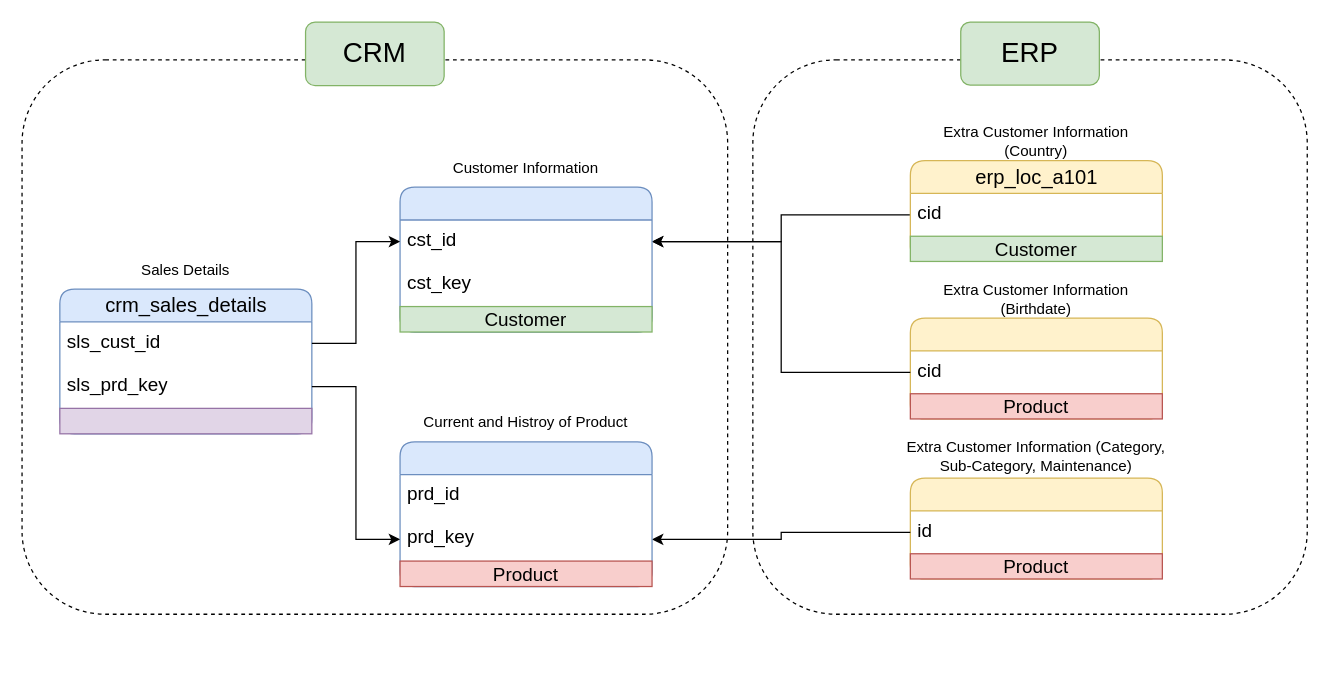
Image size: 1329x699. Some labels were removed from this diagram. Here are the shapes that lost their labels. From the top down, the box of each, then its label:
(399, 186, 652, 332): crm_cust_info
(909, 317, 1162, 419): erp_cust_az12
(59, 407, 312, 434): Sales
(399, 440, 652, 587): crm_prd_info
(909, 477, 1162, 579): erp_px_cat_g1v2
